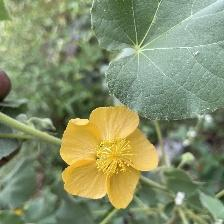indian mallow: (57, 107, 163, 213)
